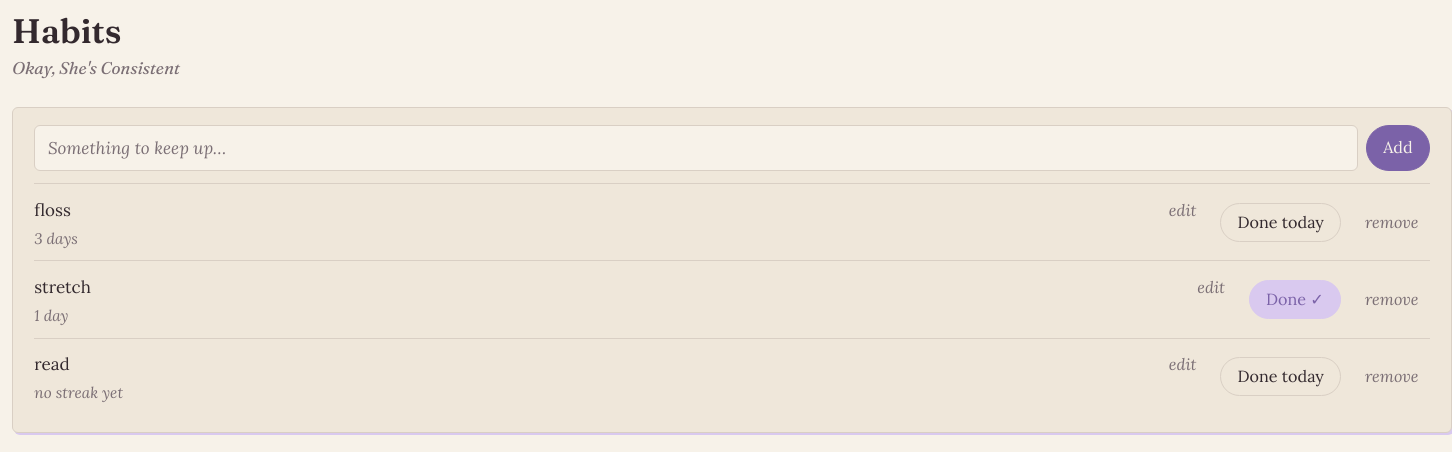
Test: removes a habit after confirming
Expected: the text "read" is shown, [34,353,70,375]
Click the button "remove" in the row of "read": (1392, 377) [1354,361,1430,393]
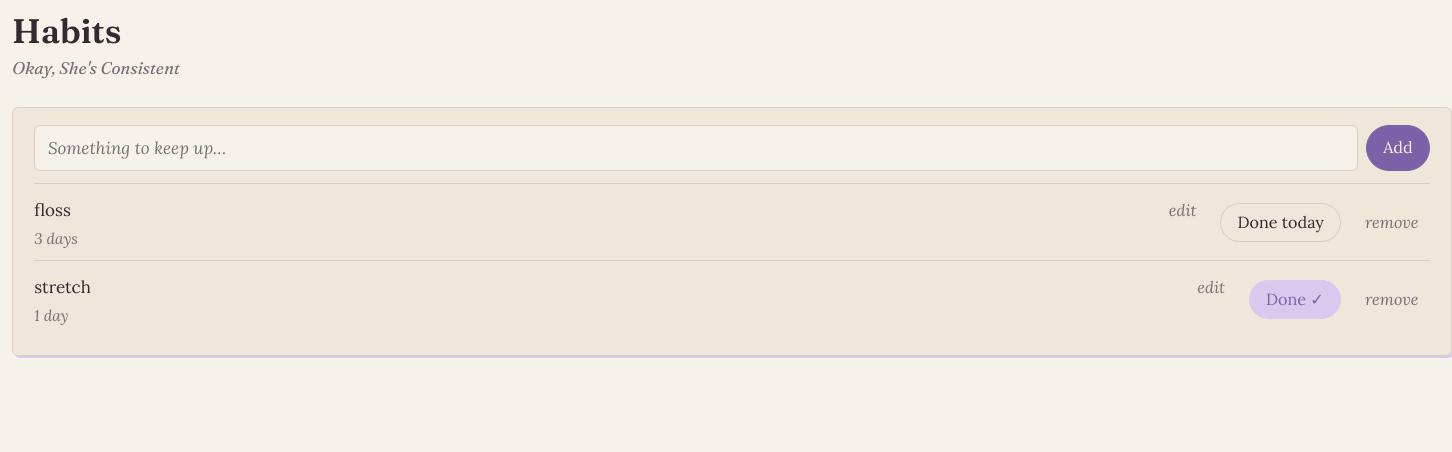
Expected: the text "floss" is shown, [34,199,71,221]
Now the text "read" is gone
